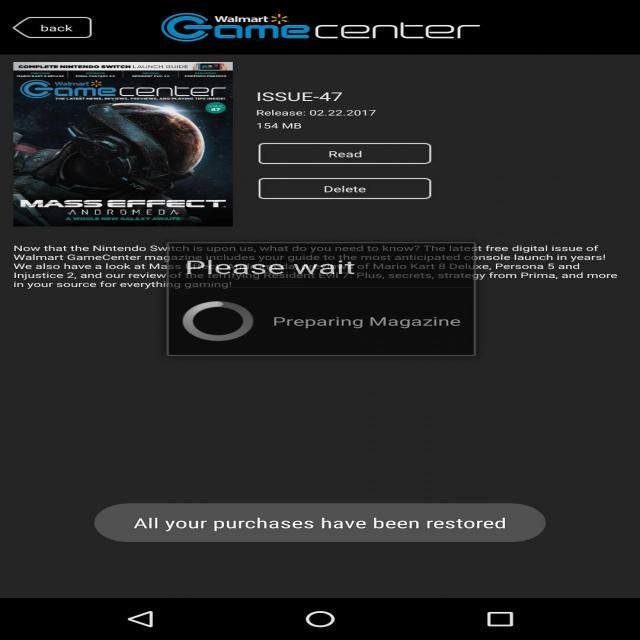button: (0, 5, 114, 50), (266, 138, 446, 165), (88, 598, 190, 636), (463, 602, 565, 636), (272, 600, 368, 636), (259, 180, 431, 200)
image: (5, 61, 228, 226), (174, 244, 469, 358), (158, 6, 510, 56)
text: (93, 491, 570, 557), (8, 240, 625, 290), (254, 86, 374, 134)
